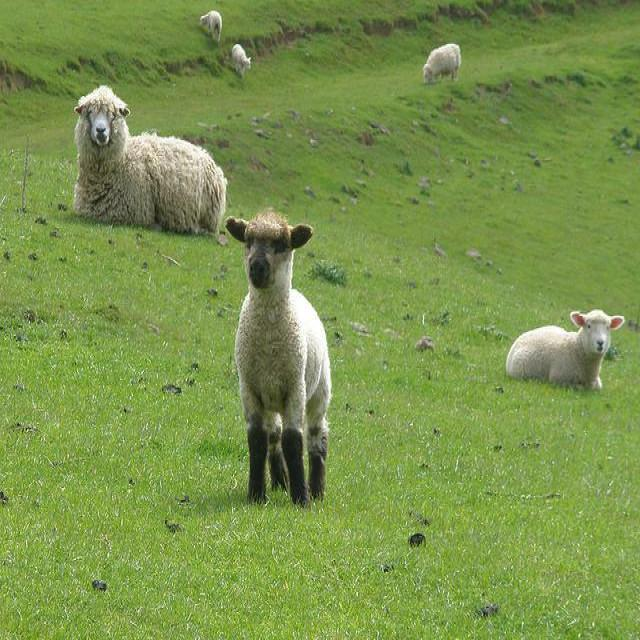Sheep: (227, 212, 331, 511), (68, 87, 228, 237), (507, 308, 626, 388)
